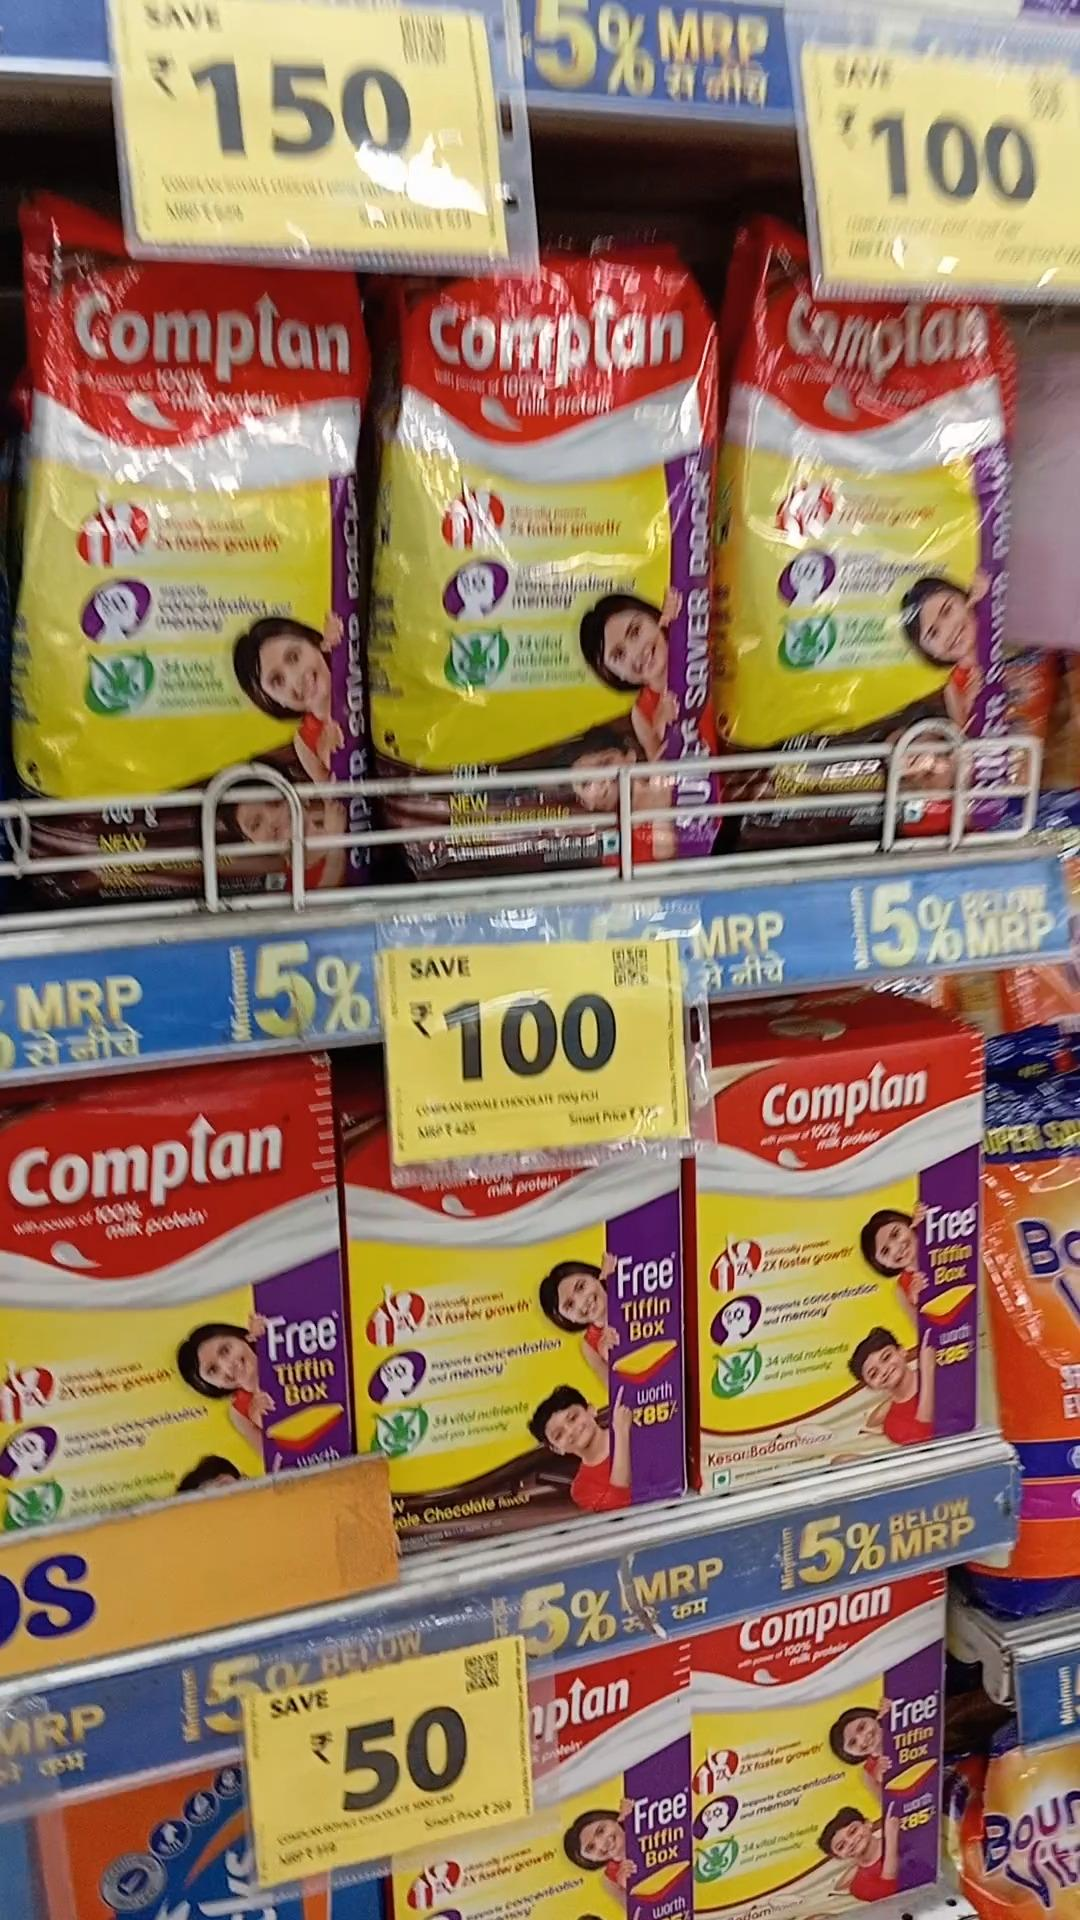COMPLAN_CHOCOLATE_500_GMS_PACK: (0, 1088, 348, 1514), (345, 1101, 673, 1526)
COMPLAN_KESAR_BADAM_500_GMS_PACK: (702, 1054, 984, 1472), (703, 1597, 944, 1916)
COMPLAN_RC_POUCH_700_GMS_12: (16, 216, 344, 893), (396, 260, 712, 880), (735, 280, 1005, 847)
